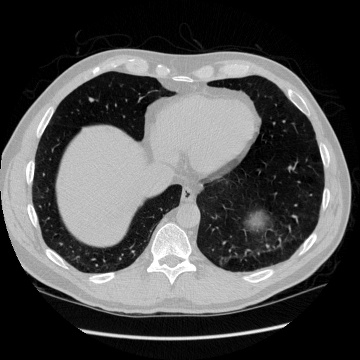PN: (88, 96, 94, 102)
